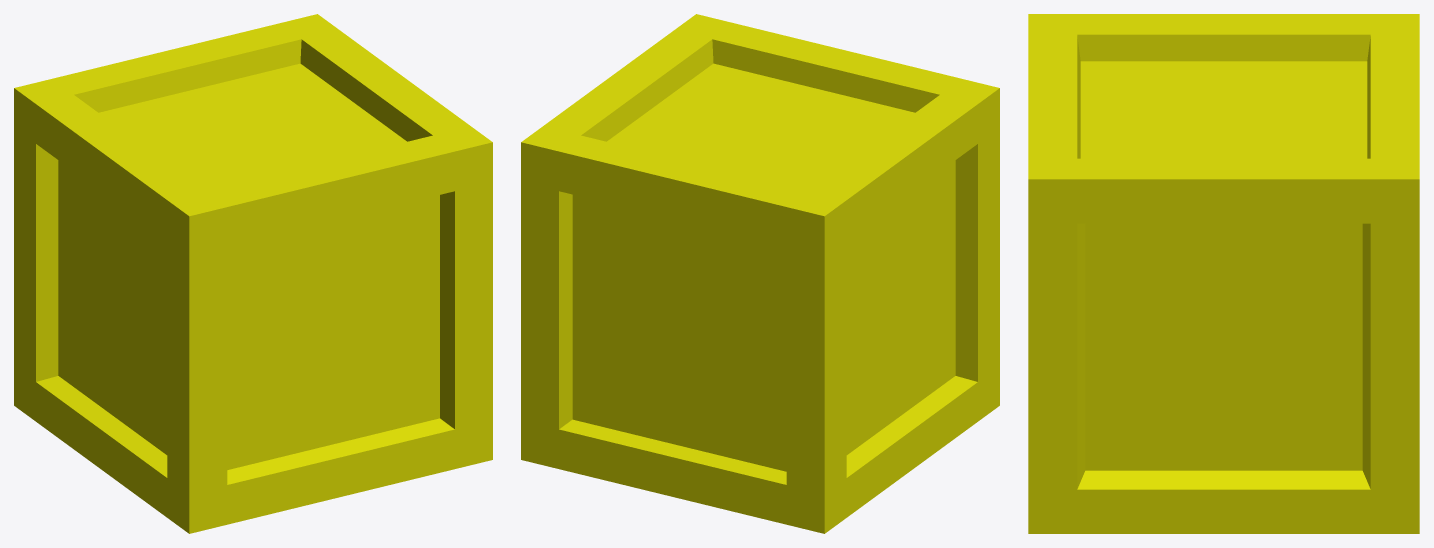
The model's file is m_crate.fbx.
The picture shows the model from 3 angles, left to right: view 1: azimuth 30°, elevation 25°; view 2: azimuth 150°, elevation 25°; view 3: azimuth 270°, elevation 25°; orthographic projection. The views are drawn at different scales.
Parts seen in each view (by area): view 1: m_crate; view 2: m_crate; view 3: m_crate.
Part boxes in pixels (x1,y1,x2,y2): m_crate: (14,14,492,533); m_crate: (521,14,999,533); m_crate: (1028,14,1419,533).
Size of the model in its own units: 1 by 1 by 1.
